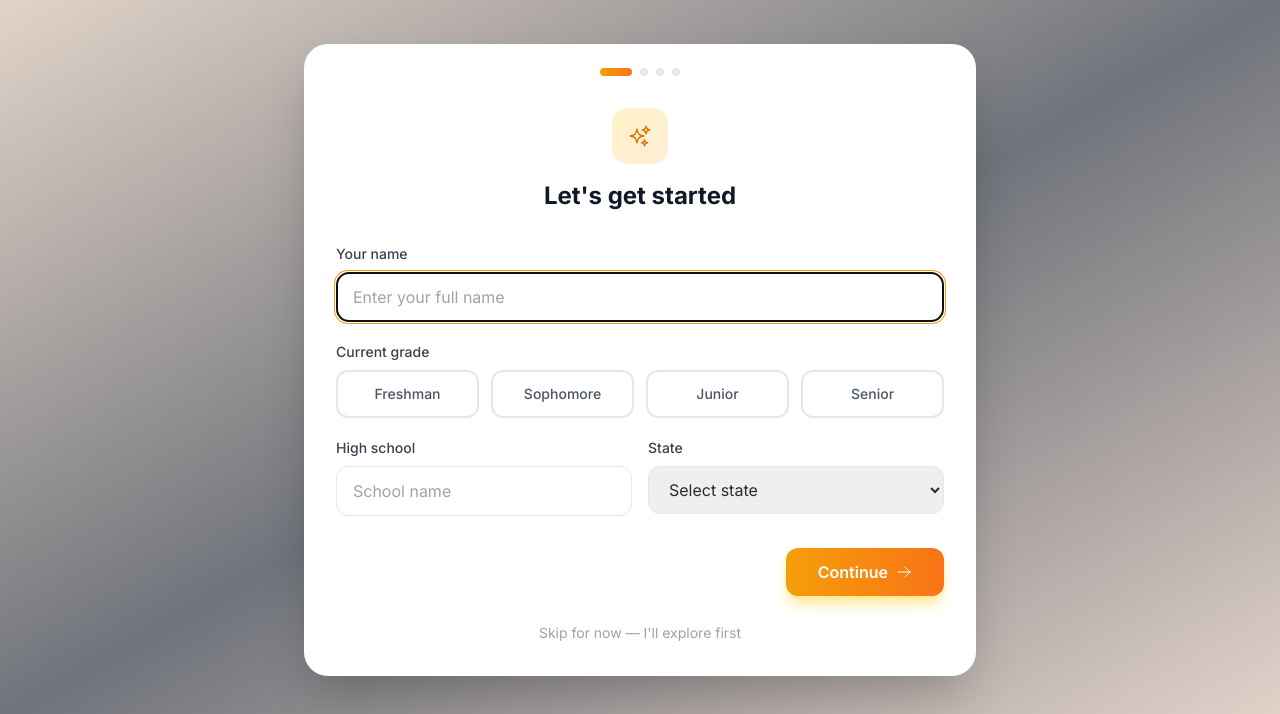
it: OnboardingModal — majors step › shows the exploration subline on the interests step
Click the button "Continue". click: (865, 572)
box: [786,548,944,596]
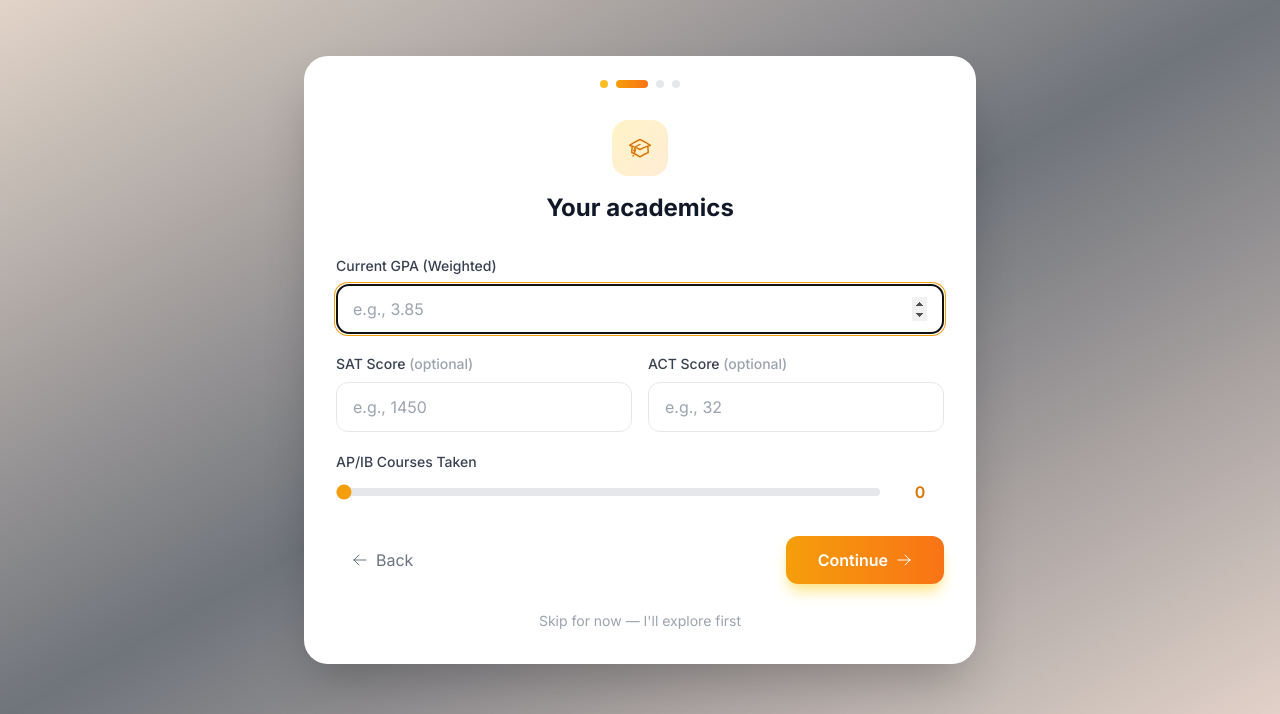
Now the heading "Your academics" is shown, box [546,193,734,222]
Click the button "Continue". click: (865, 560)
box: [786,536,944,584]
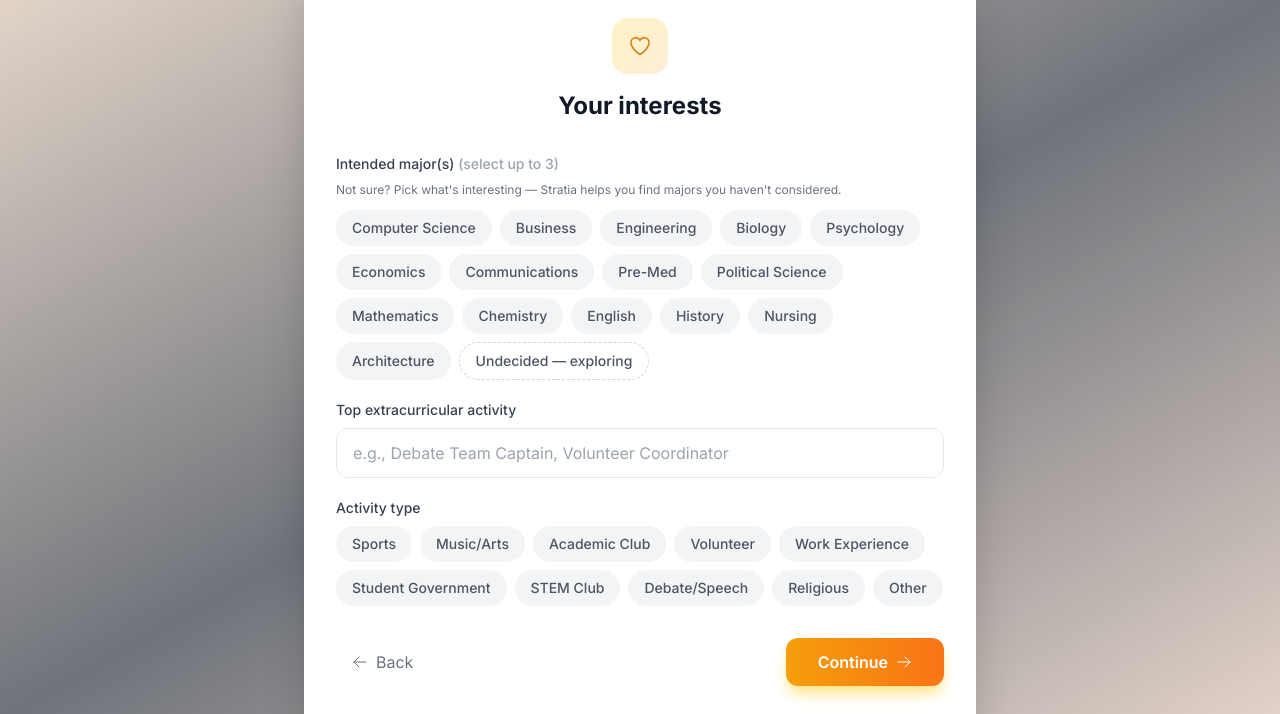
Now the heading "Your interests" is shown, box [558,91,722,120]
Now the text "not sure? pick what's interesting — stratia helps you find majors you haven't considered" is shown, box [336,182,842,197]
